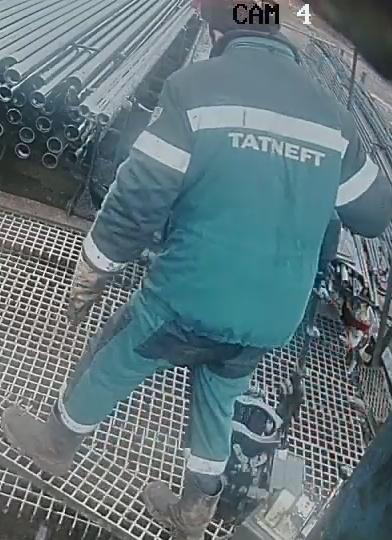gloves: (65, 234, 127, 326)
vest: (130, 39, 355, 353)
